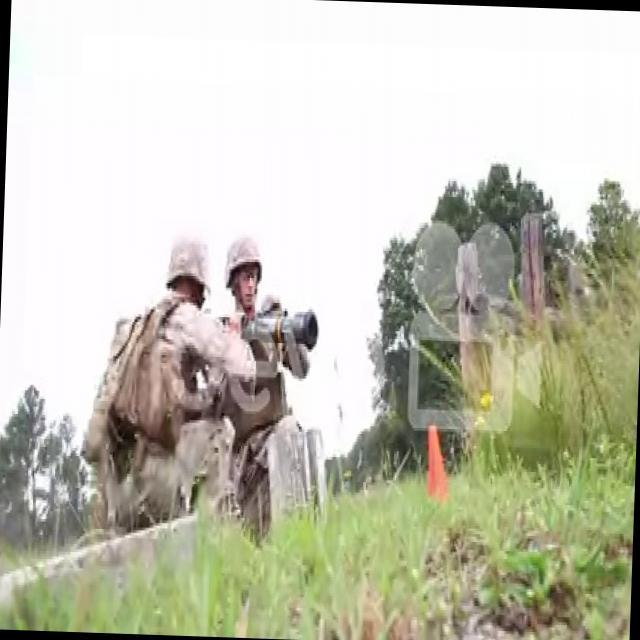rocket: (238, 306, 316, 352)
